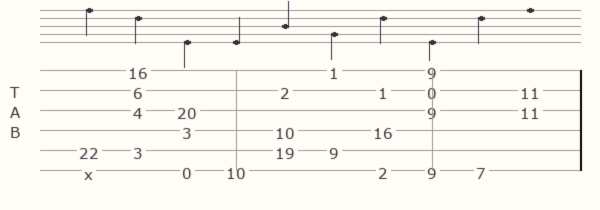0: (182, 163, 196, 178), (427, 83, 441, 98)
1: (329, 63, 343, 78), (378, 83, 392, 98)
10: (226, 163, 250, 178), (275, 123, 299, 138)
11: (520, 103, 544, 118), (520, 83, 544, 98)
16: (128, 63, 152, 78), (373, 123, 397, 138)
19: (275, 143, 299, 158)
2: (280, 83, 294, 98), (378, 163, 392, 178)
20: (177, 103, 201, 118)
22: (79, 143, 103, 158)
3: (133, 143, 147, 158), (182, 123, 196, 138)
4: (133, 103, 147, 118)
6: (133, 83, 147, 98)
7: (476, 163, 490, 178)
9: (329, 143, 343, 158), (427, 103, 441, 118), (427, 163, 441, 178), (427, 63, 441, 78)
x: (84, 164, 97, 176)
